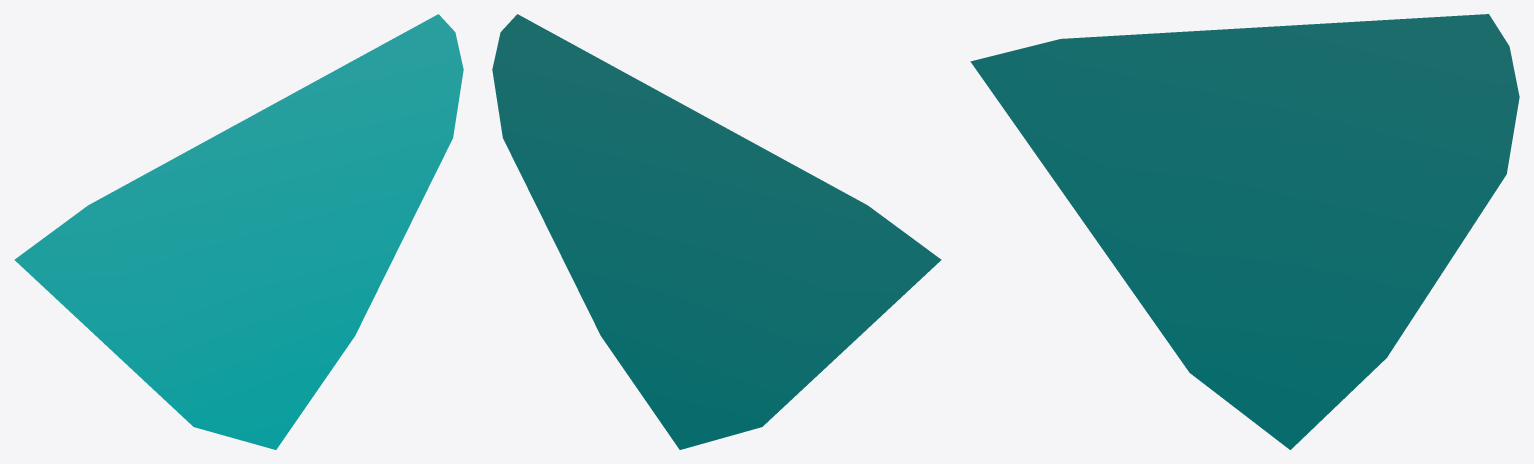
File: Giant_Reed_sjllX_Mid_sjllX_VarD_LOD2.fbx
The picture shows the model from 3 angles, left to right: view 1: azimuth 30°, elevation 25°; view 2: azimuth 150°, elevation 25°; view 3: azimuth 330°, elevation 25°; orthographic projection. The views are drawn at different scales.
Parts seen in each view (by area): view 1: _c4de_VarD_LOD3; view 2: _c4de_VarD_LOD3; view 3: _c4de_VarD_LOD3.
Boxes of the visible parts, x1=… form: _c4de_VarD_LOD3: x1=14, y1=14, x2=463, y2=449; _c4de_VarD_LOD3: x1=492, y1=14, x2=941, y2=449; _c4de_VarD_LOD3: x1=970, y1=14, x2=1519, y2=449.
Size of the model in its own units: 139 by 117 by 0.
